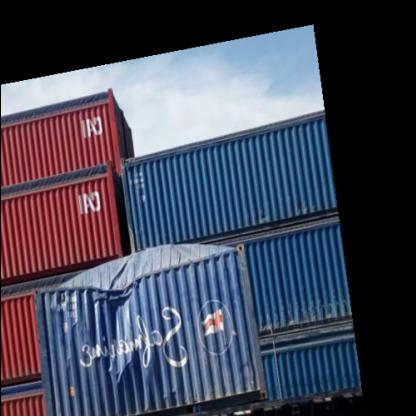Damage: (12, 242, 235, 382)
